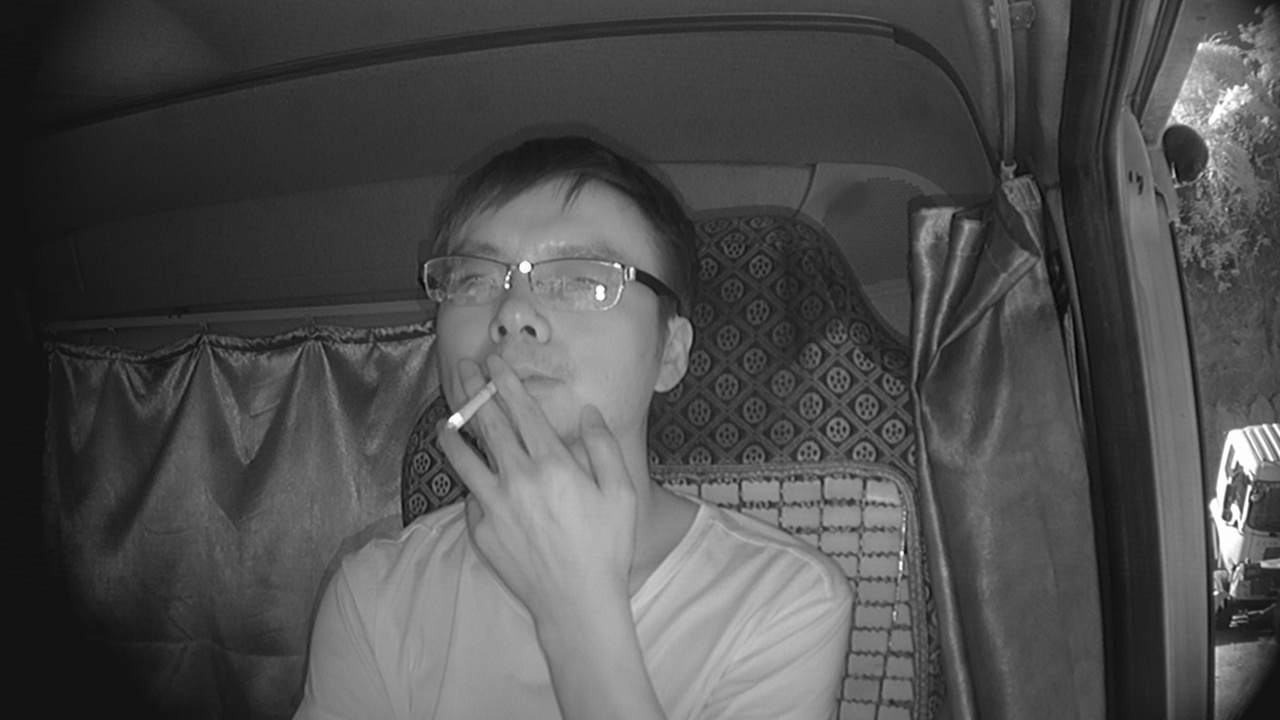hand: (442, 361, 642, 594)
